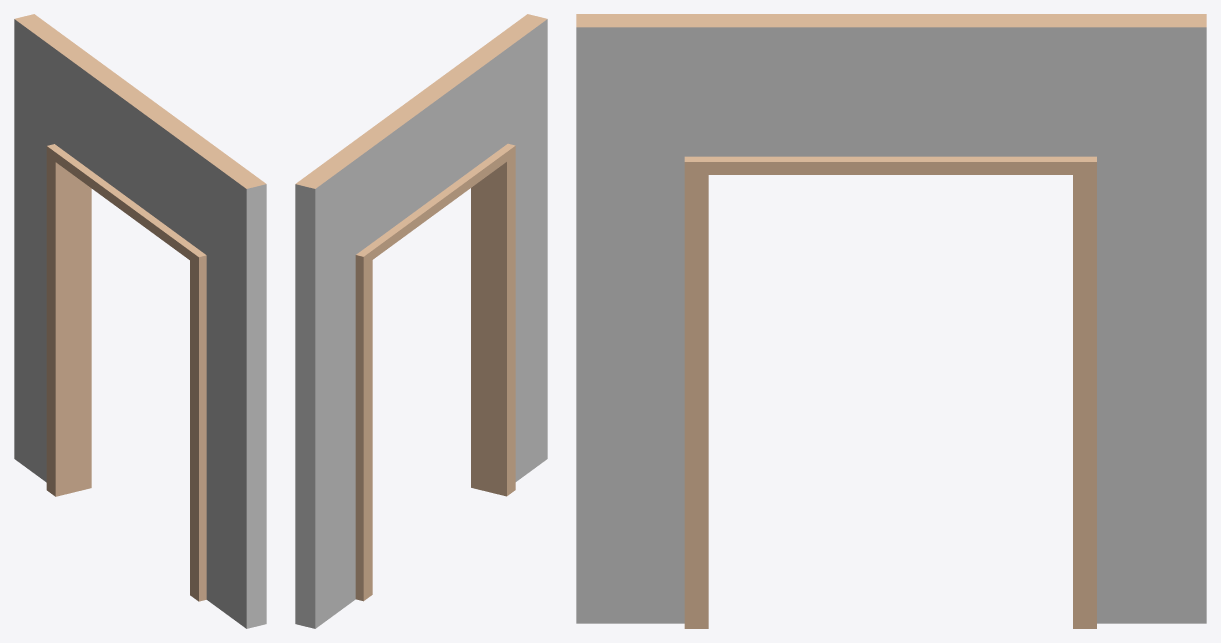
The model's file is doorway.glb.
The picture shows the model from 3 angles, left to right: view 1: azimuth 30°, elevation 25°; view 2: azimuth 150°, elevation 25°; view 3: azimuth 270°, elevation 25°; orthographic projection. The views are drawn at different scales.
Visible parts, largest first — view 1: doorway; view 2: doorway; view 3: doorway.
Boxes of the visible parts, <box> form: doorway: <box>14,14,266,628</box>; doorway: <box>295,14,547,628</box>; doorway: <box>576,14,1206,628</box>.
Bounding box in the file's own units: 0.0891 × 1.04 × 1.
